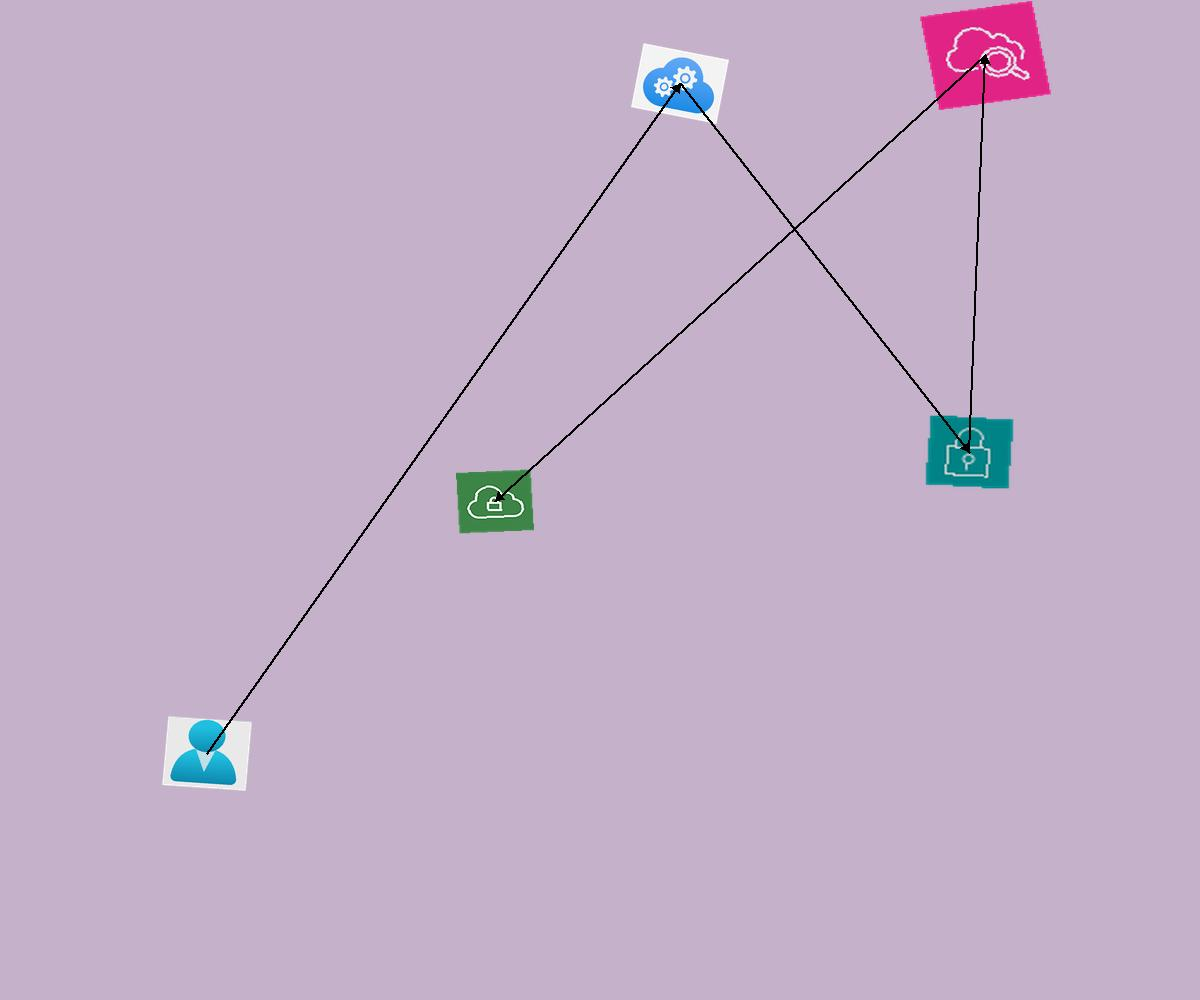AWS-CloudWatch: (919, 0, 1052, 111)
AWS-Private-subnet: (924, 414, 1015, 490)
AWS-Private_vpc: (456, 469, 534, 534)
Azure_cloud_services: (631, 43, 729, 124)
Azure_users: (162, 716, 252, 791)
